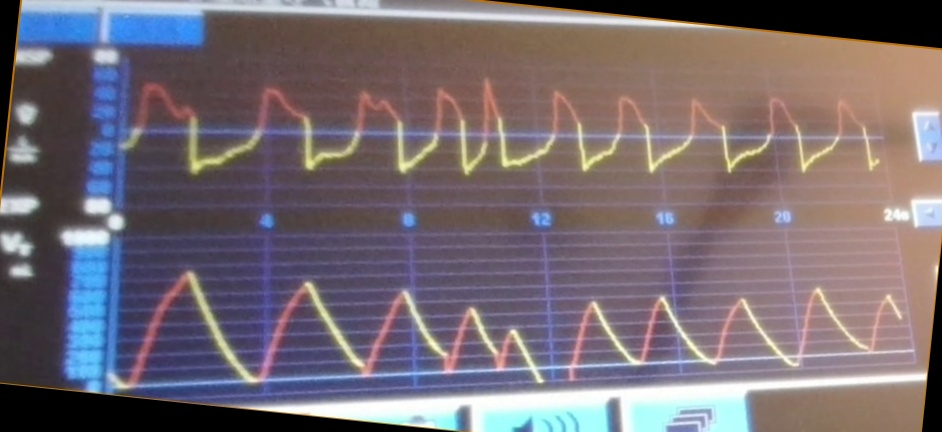Double_Triggering Flow: (129, 60, 835, 190)
Double_Triggering Volume: (116, 258, 837, 379)
